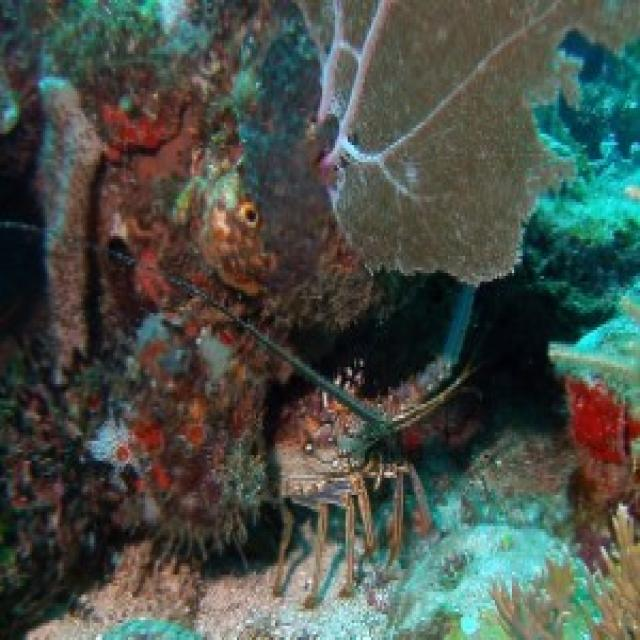lobsters: (262, 295, 570, 626)
